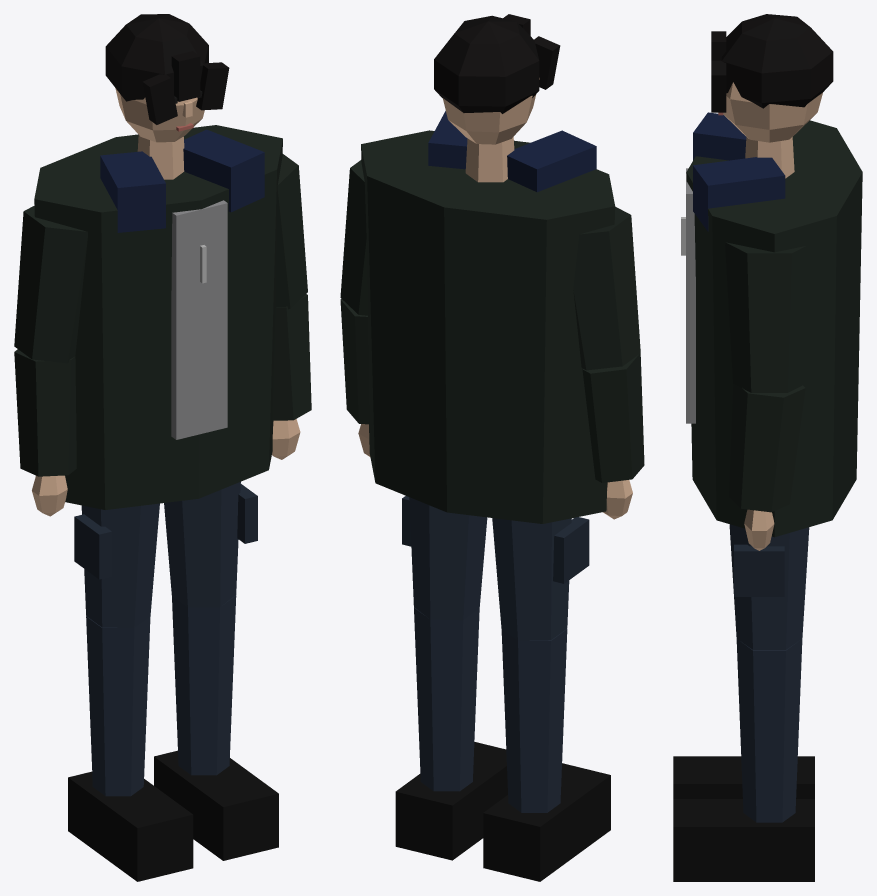
File: 03-jacket-guy.glb
3 renders of one model, left to right at view 1: azimuth 30°, elevation 25°; view 2: azimuth 150°, elevation 25°; view 3: azimuth 270°, elevation 25°, orthographic. The views are drawn at different scales.
Parts seen in each view (by area): view 1: 03-jacket-guy-coat, 03-jacket-guy-opening, 03-jacket-guy-shin, 03-jacket-guy-shin.001, 03-jacket-guy-chunky, 03-jacket-guy-upperarm, 03-jacket-guy-chunky.001, 03-jacket-guy-thigh.001, 03-jacket-guy-thigh, 03-jacket-guy-forearm, 03-jacket-guy-hair, 03-jacket-guy-collar.001 (+12 smaller); view 2: 03-jacket-guy-coat, 03-jacket-guy-shin, 03-jacket-guy-shin.001, 03-jacket-guy-chunky, 03-jacket-guy-upperarm, 03-jacket-guy-hair, 03-jacket-guy-thigh.001, 03-jacket-guy-chunky.001, 03-jacket-guy-thigh, 03-jacket-guy-forearm, 03-jacket-guy-collar, 03-jacket-guy-upperarm.001 (+7 smaller); view 3: 03-jacket-guy-coat, 03-jacket-guy-upperarm.001, 03-jacket-guy-chunky.001, 03-jacket-guy-shin.001, 03-jacket-guy-hair, 03-jacket-guy-forearm.001, 03-jacket-guy-thigh.001, 03-jacket-guy-collar.001, 03-jacket-guy-chunky, 03-jacket-guy-head, 03-jacket-guy-cargopocket.001, 03-jacket-guy-opening (+5 smaller).
Part boxes in pixels (bbox=[...]): 03-jacket-guy-coat: bbox=[34, 125, 282, 509]; 03-jacket-guy-opening: bbox=[171, 200, 227, 439]; 03-jacket-guy-shin: bbox=[86, 616, 150, 796]; 03-jacket-guy-shin.001: bbox=[172, 595, 236, 775]; 03-jacket-guy-chunky: bbox=[68, 771, 193, 881]; 03-jacket-guy-upperarm: bbox=[14, 205, 87, 363]; 03-jacket-guy-chunky.001: bbox=[154, 750, 278, 860]; 03-jacket-guy-thigh.001: bbox=[164, 481, 240, 607]; 03-jacket-guy-thigh: bbox=[81, 503, 159, 627]; 03-jacket-guy-forearm: bbox=[14, 349, 76, 476]; 03-jacket-guy-hair: bbox=[105, 14, 208, 101]; 03-jacket-guy-collar.001: bbox=[183, 129, 264, 212]; 03-jacket-guy-coat: bbox=[361, 130, 615, 523]; 03-jacket-guy-shin: bbox=[501, 629, 567, 812]; 03-jacket-guy-shin.001: bbox=[414, 607, 479, 791]; 03-jacket-guy-chunky: bbox=[483, 763, 610, 881]; 03-jacket-guy-upperarm: bbox=[573, 207, 640, 370]; 03-jacket-guy-hair: bbox=[434, 15, 539, 113]; 03-jacket-guy-thigh.001: bbox=[409, 497, 487, 620]; 03-jacket-guy-chunky.001: bbox=[395, 742, 507, 860]; 03-jacket-guy-thigh: bbox=[492, 518, 571, 640]; 03-jacket-guy-forearm: bbox=[582, 353, 644, 482]; 03-jacket-guy-collar: bbox=[507, 130, 596, 192]; 03-jacket-guy-upperarm.001: bbox=[340, 160, 367, 315]; 03-jacket-guy-coat: bbox=[686, 120, 862, 537]; 03-jacket-guy-upperarm.001: bbox=[725, 242, 810, 392]; 03-jacket-guy-chunky.001: bbox=[673, 799, 814, 881]; 03-jacket-guy-shin.001: bbox=[736, 639, 802, 822]; 03-jacket-guy-hair: bbox=[721, 14, 833, 108]; 03-jacket-guy-forearm.001: bbox=[729, 384, 805, 512]; 03-jacket-guy-thigh.001: bbox=[729, 524, 809, 649]; 03-jacket-guy-collar.001: bbox=[693, 157, 785, 231]; 03-jacket-guy-chunky: bbox=[673, 756, 814, 798]; 03-jacket-guy-head: bbox=[723, 82, 822, 142]; 03-jacket-guy-cargopocket.001: bbox=[734, 544, 784, 596]; 03-jacket-guy-opening: bbox=[686, 168, 695, 423].
Bounding box in the file's own units: 0.6524 × 1.81 × 0.374.
